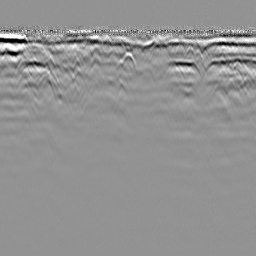cavity: (122, 51, 136, 68)
